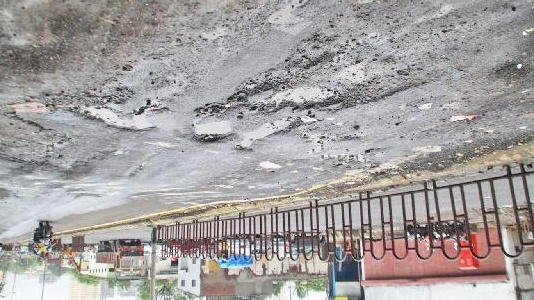pothole: (224, 65, 425, 112), (71, 103, 158, 133), (232, 118, 296, 154), (187, 117, 234, 144), (320, 152, 371, 166), (7, 101, 51, 116), (257, 159, 282, 173)
